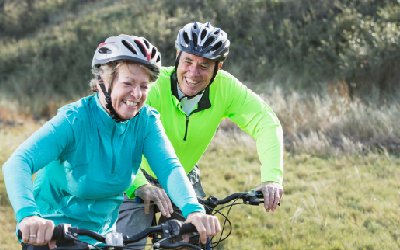helmet: (93, 34, 162, 118), (173, 22, 231, 96)
